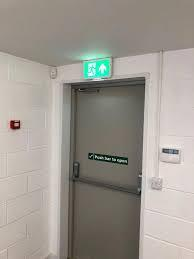exit: (68, 78, 146, 258)
lit_exit_sign: (82, 56, 111, 77)
